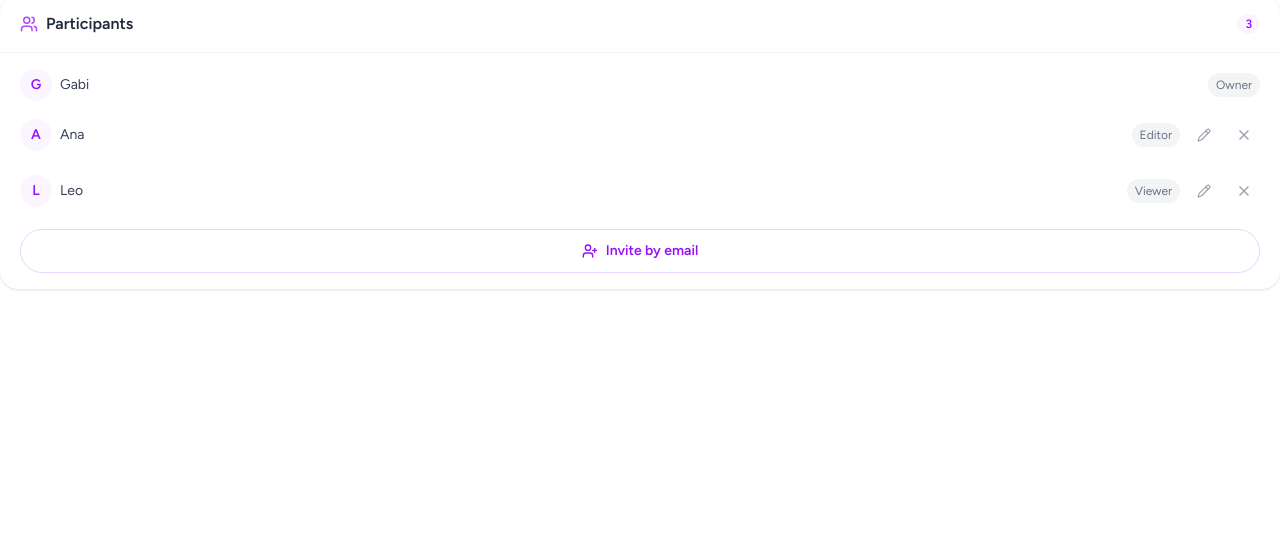
Test: Participants › inviting › invites as viewer by default
Click the button "Invite by email": (640, 251) [20,229,1260,273]
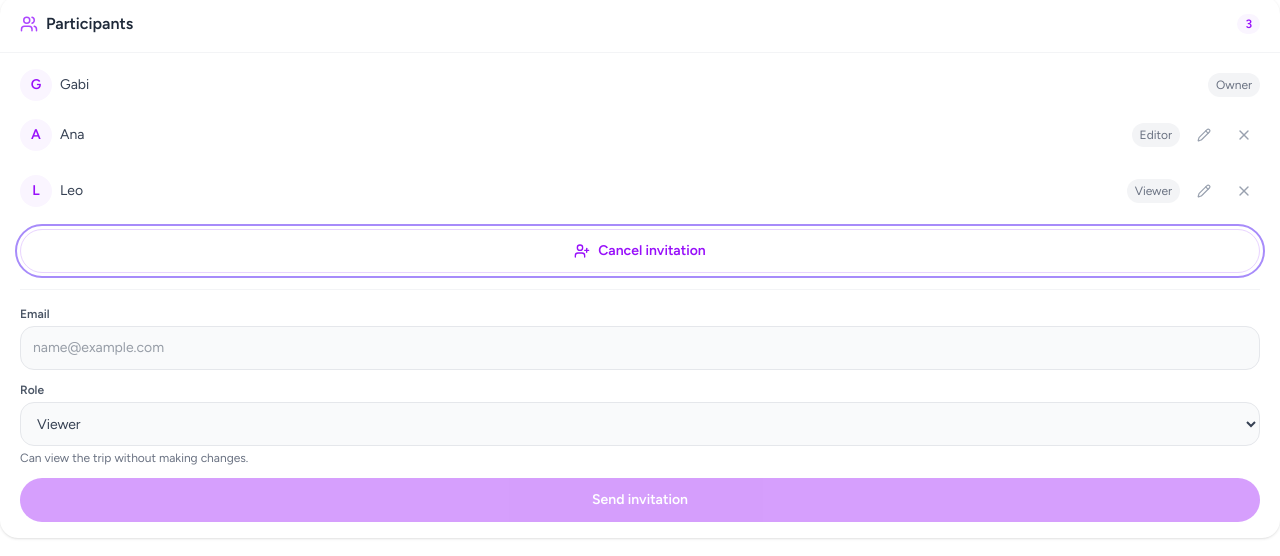
In the field labelled "Email": (640, 348) [20,326,1260,370], type "leo@example.com"
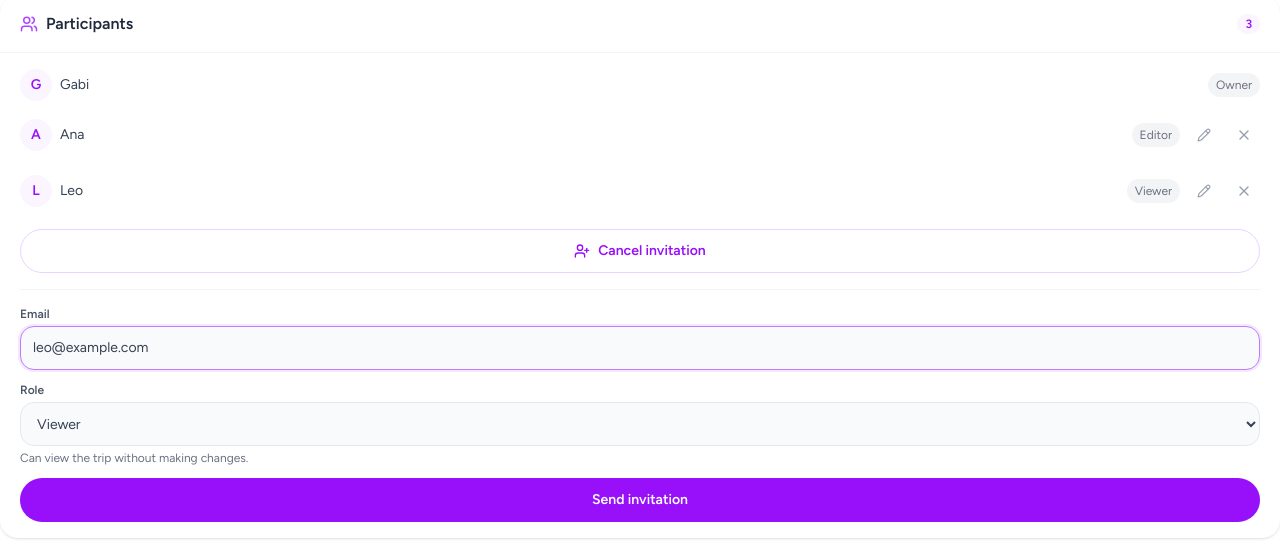
Click the button "Send invitation": (640, 500) [20,478,1260,522]
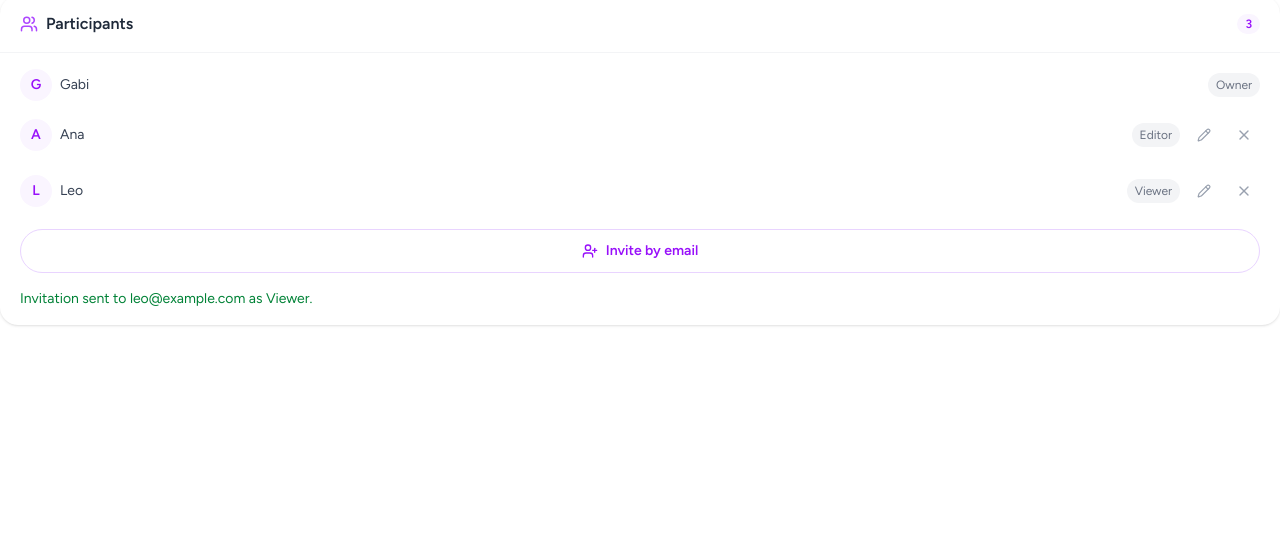
Expected: the message "Invitation sent to leo@example.com as Viewer." is shown, [20,290,312,307]
